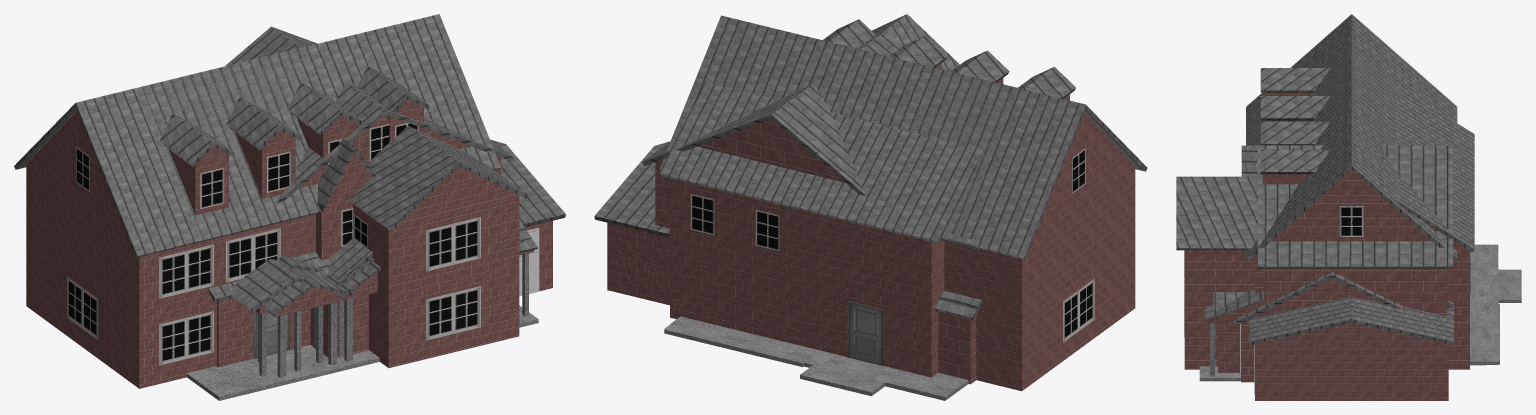
Rendered from psx_houses.glb.
The picture shows the model from 3 angles, left to right: view 1: azimuth 30°, elevation 25°; view 2: azimuth 150°, elevation 25°; view 3: azimuth 270°, elevation 25°; orthographic projection. The views are drawn at different scales.
Parts seen in each view (by area): view 1: psxh_2, psxh_1, psxh_4, psxh_9, psxh_3, psxh_6, psxh_10, psxh_8, psxh_5, psxh_7; view 2: psxh_4, psxh_2, psxh_1, psxh_9, psxh_8; view 3: psxh_2, psxh_4, psxh_1, psxh_9, psxh_8, psxh_10, psxh_6.
Part boxes in pixels (left/top/right/bottom): psxh_2: left=14, top=47, right=565, bottom=388; psxh_1: left=142, top=14, right=500, bottom=368; psxh_4: left=257, top=125, right=528, bottom=368; psxh_9: left=225, top=26, right=538, bottom=371; psxh_3: left=208, top=258, right=323, bottom=376; psxh_6: left=316, top=137, right=379, bottom=368; psxh_10: left=310, top=238, right=524, bottom=357; psxh_8: left=187, top=356, right=379, bottom=400; psxh_5: left=327, top=258, right=373, bottom=357; psxh_7: left=230, top=358, right=379, bottom=390; psxh_4: left=659, top=14, right=982, bottom=396; psxh_2: left=594, top=35, right=1147, bottom=391; psxh_1: left=659, top=15, right=1018, bottom=350; psxh_9: left=642, top=31, right=981, bottom=384; psxh_8: left=874, top=232, right=976, bottom=400; psxh_2: left=1246, top=14, right=1499, bottom=400; psxh_4: left=1176, top=85, right=1521, bottom=369; psxh_1: left=1246, top=42, right=1499, bottom=364; psxh_9: left=1199, top=145, right=1452, bottom=381; psxh_8: left=1233, top=244, right=1498, bottom=382; psxh_10: left=1213, top=292, right=1486, bottom=372; psxh_6: left=1241, top=145, right=1498, bottom=364.
Bounding box in the file's own units: 18.2 × 9.96 × 14.76.
Materials: 13 (13 with a texture image).
